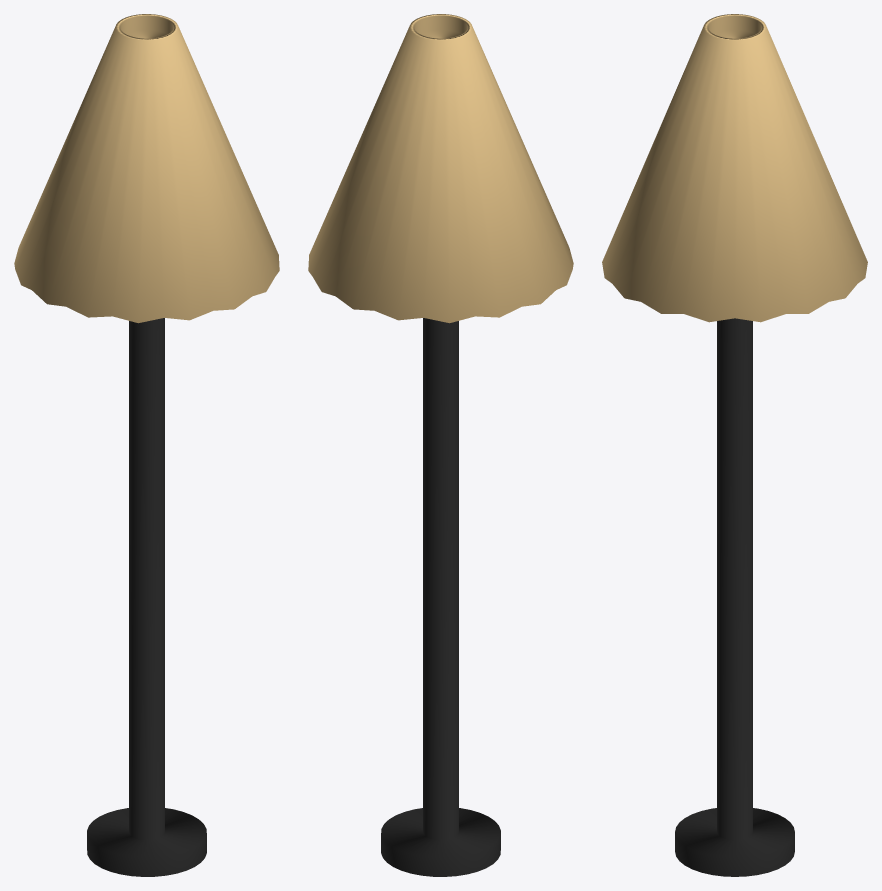
The model's file is Lamp.fbx.
3 views of the same model, side by side, from view 1: azimuth 30°, elevation 25°; view 2: azimuth 150°, elevation 25°; view 3: azimuth 270°, elevation 25° (orthographic).
Visible parts, largest first — view 1: Cylinder.001; view 2: Cylinder.001; view 3: Cylinder.001.
Boxes of the visible parts, x1,y1,x2,y2 form: Cylinder.001: (14, 14, 279, 876); Cylinder.001: (308, 14, 573, 876); Cylinder.001: (602, 14, 867, 876).
Bounding box in the file's own units: 114 × 389 × 114.
